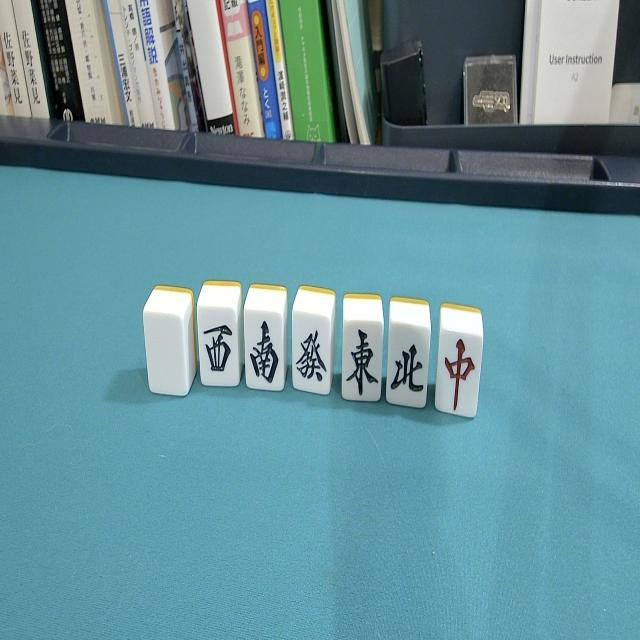chun: (433, 300, 487, 427)
haku: (142, 284, 200, 407)
hatsu: (291, 284, 339, 404)
nan: (242, 283, 290, 403)
pe-: (384, 297, 432, 419)
sya-: (197, 278, 246, 397)
ton: (340, 292, 386, 413)
